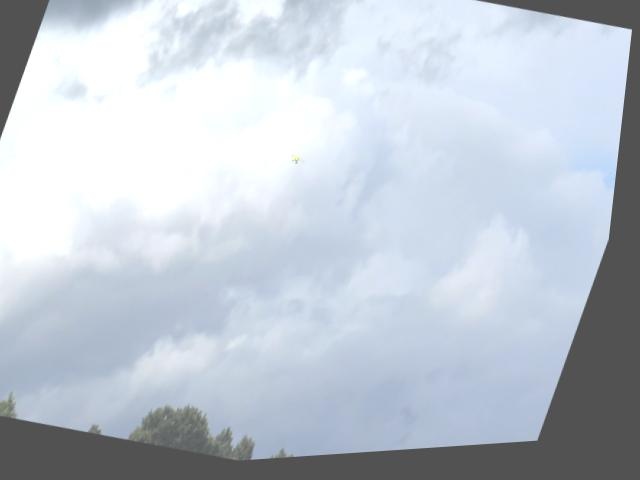plane: (292, 158, 306, 170)
